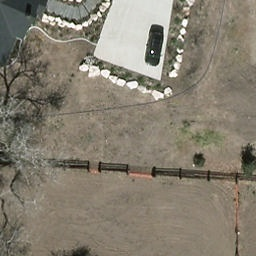car: (145, 31, 163, 66)
